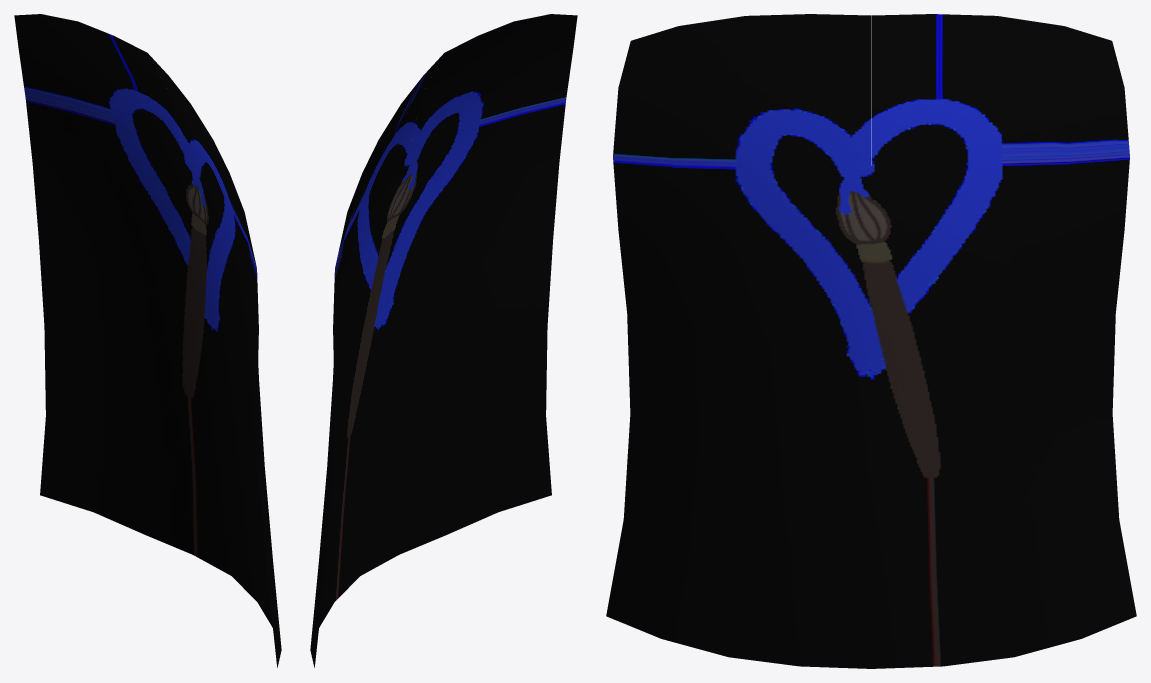
Rendered from Love_Painting.fbx.
3 views of the same model, side by side, from view 1: azimuth 30°, elevation 25°; view 2: azimuth 150°, elevation 25°; view 3: azimuth 270°, elevation 25° (orthographic). The views are drawn at different scales.
Visible parts, largest first — view 1: Love Painting; view 2: Love Painting; view 3: Love Painting.
Boxes of the visible parts, x1,y1,x2,y2 form: Love Painting: (14, 14, 281, 667); Love Painting: (310, 14, 577, 667); Love Painting: (606, 14, 1136, 668).
Bounding box in the file's own units: 15 × 71.33 × 56.36.
